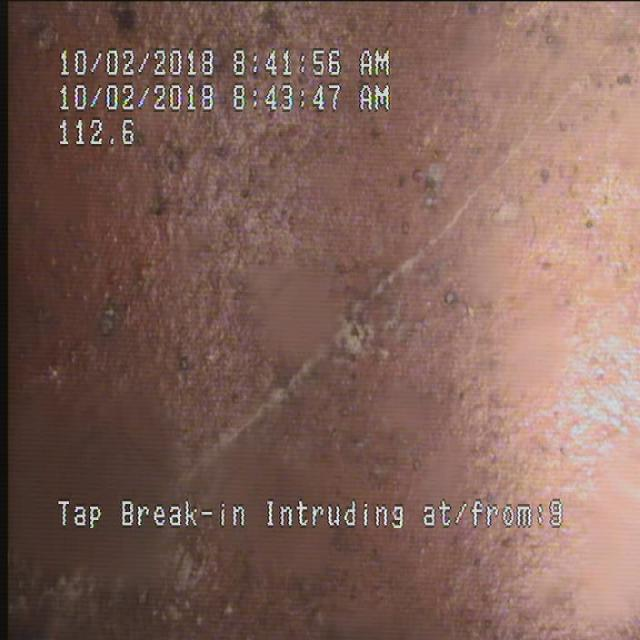Crack: (168, 62, 603, 462)
